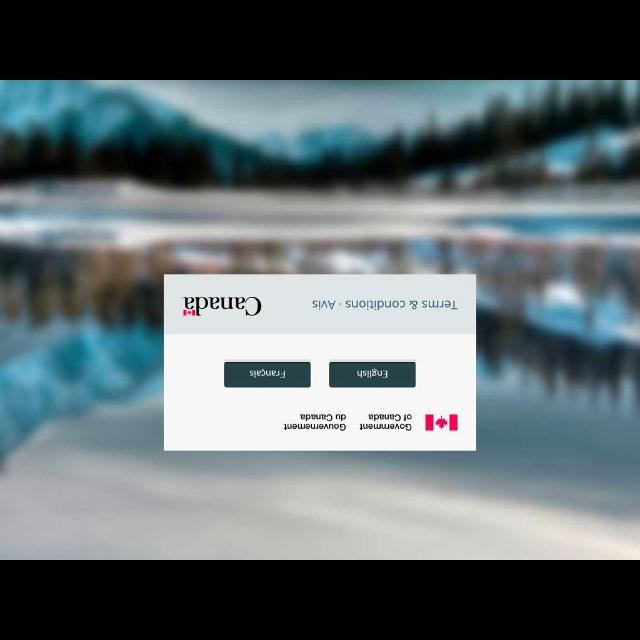backgroundimage: (1, 81, 639, 558)
image: (180, 294, 264, 318), (426, 414, 458, 432)
text: (344, 297, 458, 311), (283, 412, 347, 432), (358, 412, 414, 432), (311, 298, 337, 310)
textbutton: (223, 361, 311, 387), (328, 362, 416, 386)
